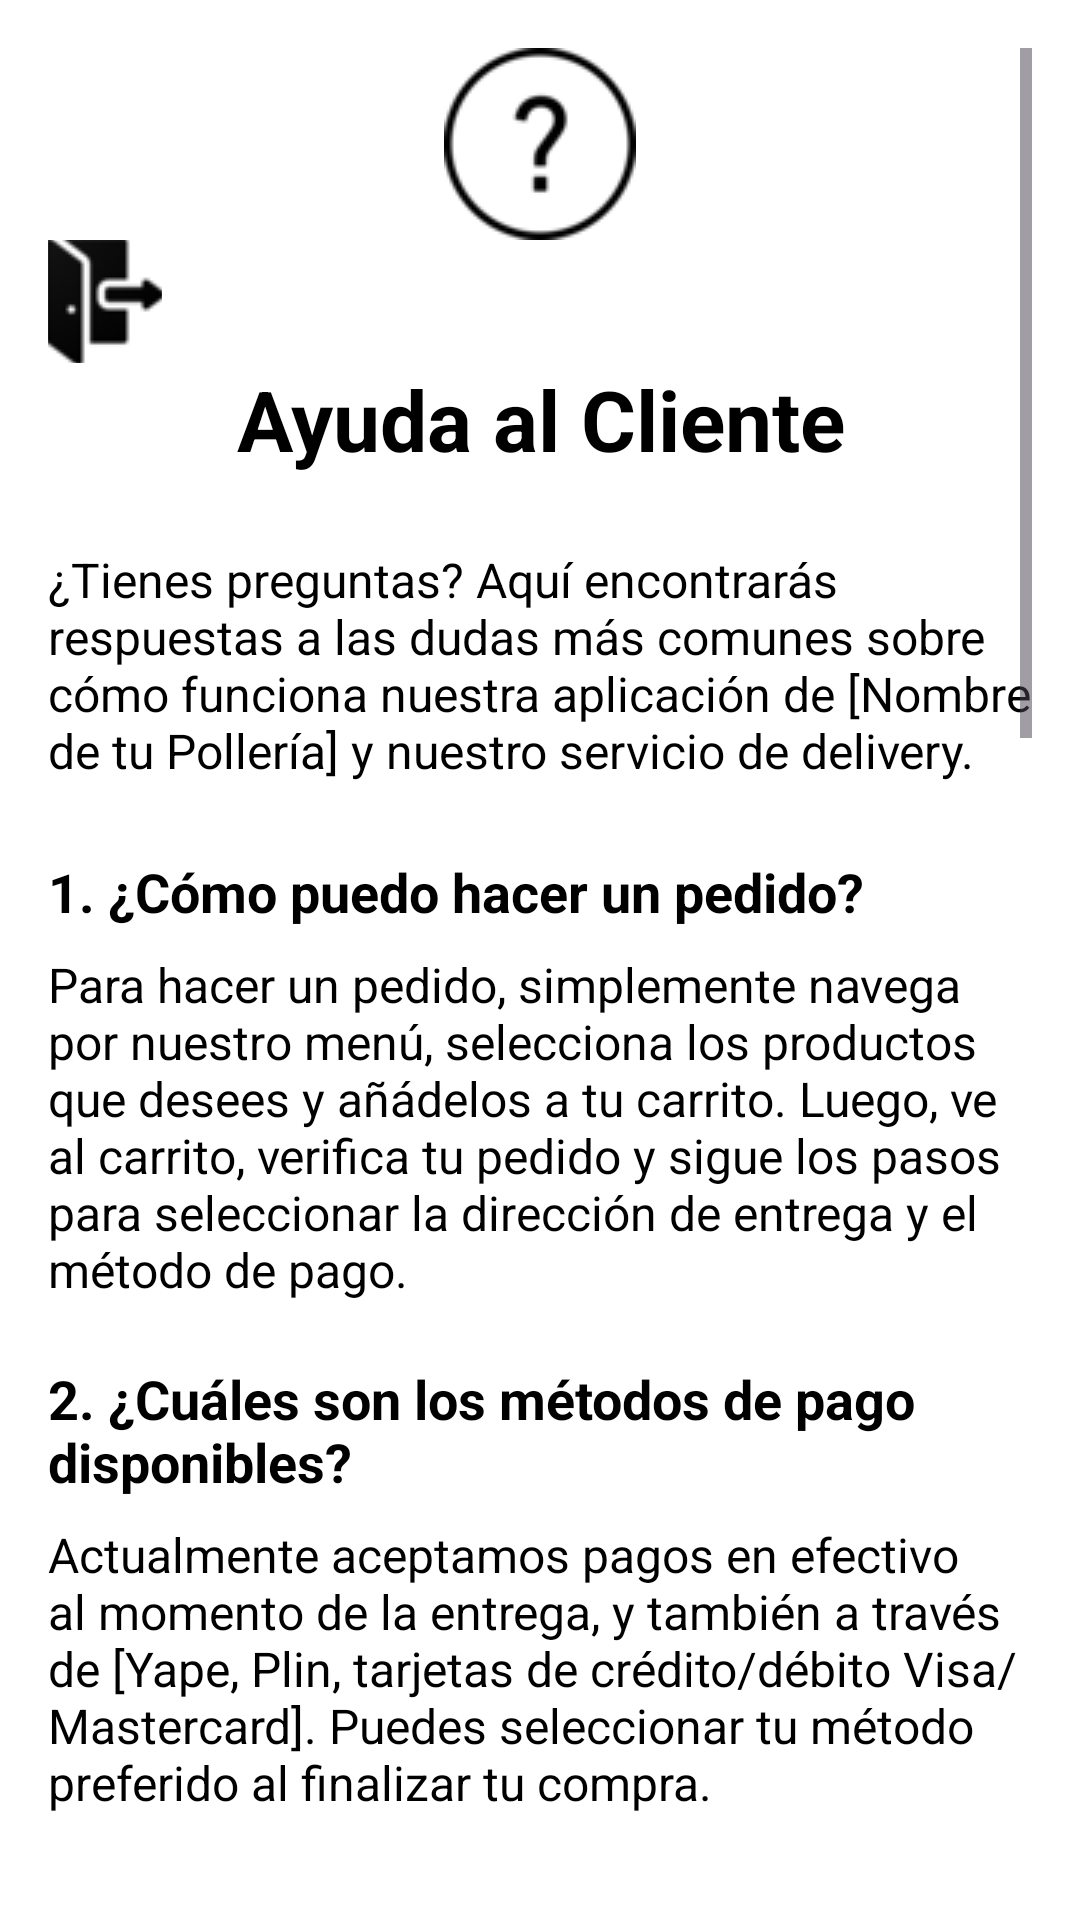

Named icons in this screenshot (1080 x 1920) and their bounding boxes, bbox=(x1, y1, x2, y2):
exit: bbox=(48, 240, 162, 363)
question: bbox=(444, 48, 636, 240)
